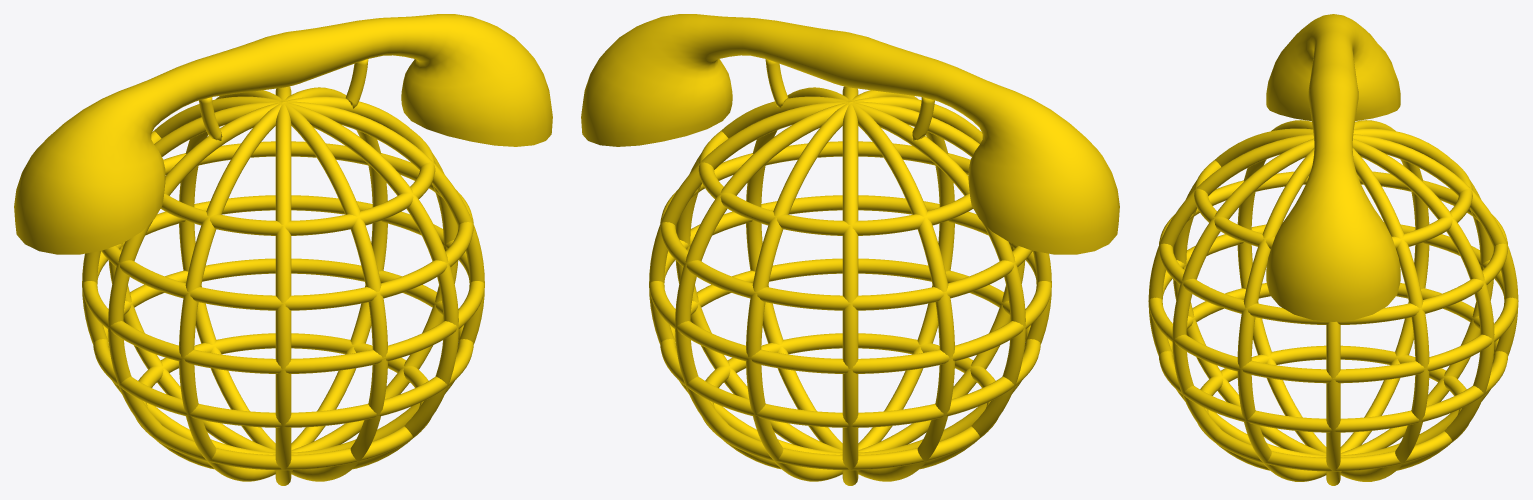
3 renders of one model, left to right at view 1: azimuth 30°, elevation 25°; view 2: azimuth 150°, elevation 25°; view 3: azimuth 270°, elevation 25°, orthographic. The views are drawn at different scales.
Parts seen in each view (by area): view 1: Globo, Telefone, Nurbs_-_Círculo; view 2: Globo, Telefone, Nurbs_-_Círculo; view 3: Globo, Telefone.
Part boxes in pixels (left/top/right/bottom): Globo: left=82, top=86, right=484, bottom=485; Telefone: left=14, top=14, right=552, bottom=254; Nurbs_-_Círculo: left=199, top=59, right=368, bottom=140; Globo: left=649, top=86, right=1051, bottom=485; Telefone: left=581, top=14, right=1119, bottom=254; Nurbs_-_Círculo: left=765, top=59, right=934, bottom=140; Globo: left=1148, top=120, right=1518, bottom=485; Telefone: left=1266, top=14, right=1400, bottom=321.
Size of the model in its own units: 3.1 by 2.45 by 2.08.
